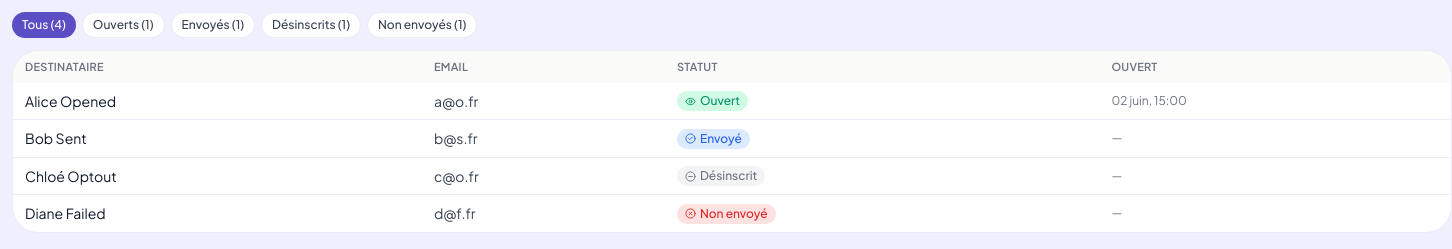
RecipientsTable › filtre 'opened' ne montre que les ouverts
Click the tab "Ouverts (1)" at point(123, 25), box [82, 12, 165, 38]
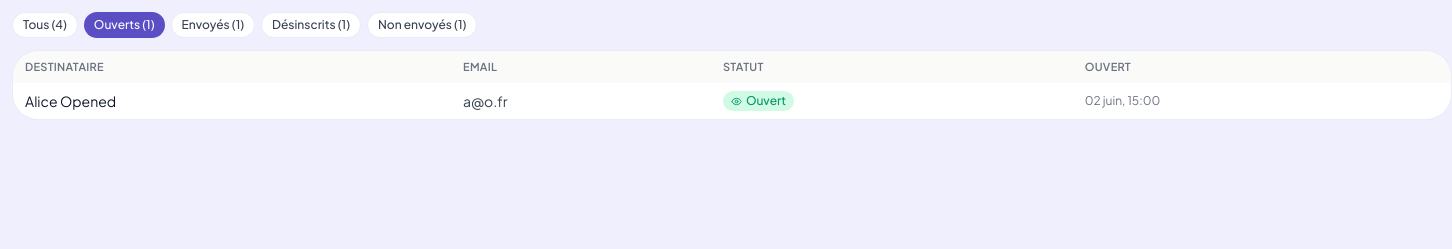
Expected: the text "Alice Opened" is shown, [13, 83, 451, 119]
Now the text "Bob Sent" is gone
Now the text "Diane Failed" is gone
